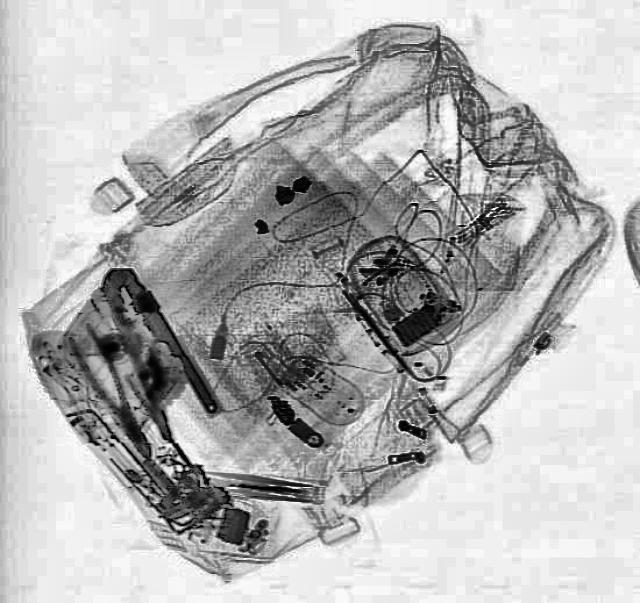Pliers: (76, 258, 226, 442)
